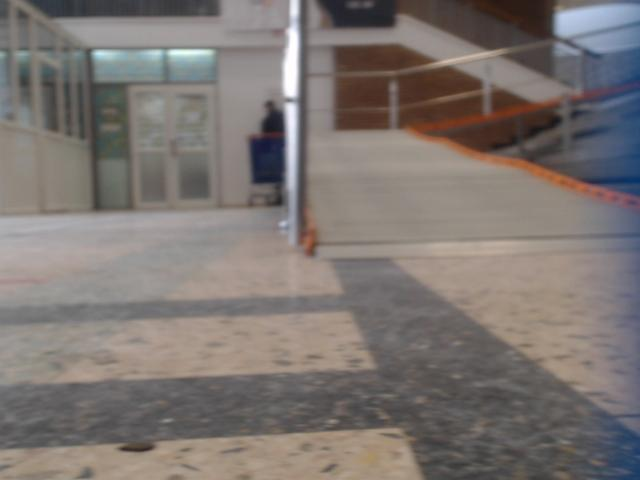rampUp: (308, 130, 639, 257)
ramps-railing: (319, 49, 588, 125), (337, 40, 553, 76), (283, 0, 307, 244)
